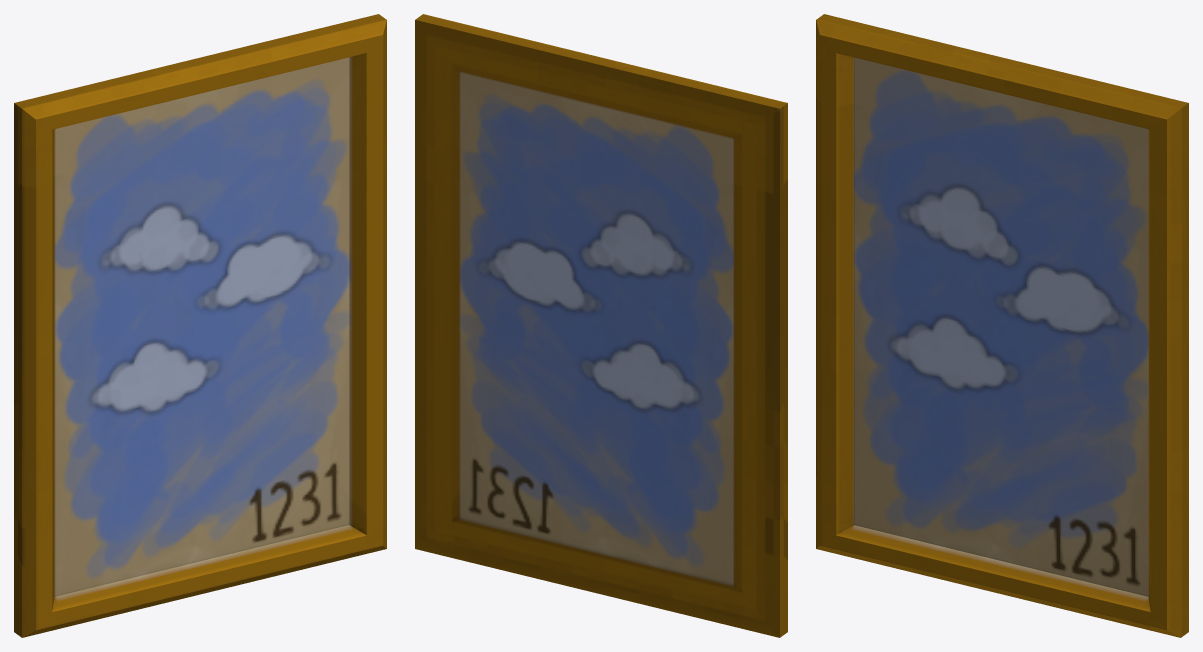
The model's file is painting04_model.glb.
The picture shows the model from 3 angles, left to right: view 1: azimuth 30°, elevation 25°; view 2: azimuth 150°, elevation 25°; view 3: azimuth 330°, elevation 25°; orthographic projection.
Parts seen in each view (by area): view 1: picture04_t8; view 2: picture04_t8; view 3: picture04_t8.
Boxes of the visible parts, x1,y1,x2,y2 form: picture04_t8: (14,14,386,637); picture04_t8: (415,14,787,637); picture04_t8: (816,14,1188,637).
Size of the model in its own units: 2.43 by 3.38 by 0.1509.
Materials: 1 (1 with a texture image).
